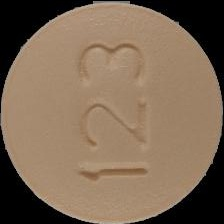69097-123: (0, 0, 224, 224)
